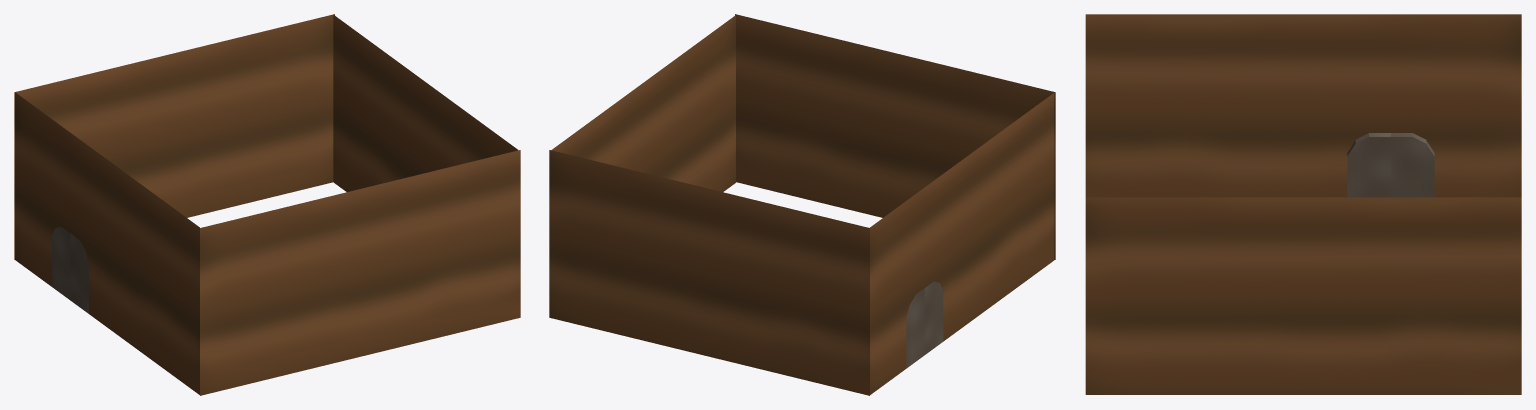
File: kabe.fbx
3 renders of one model, left to right at view 1: azimuth 30°, elevation 25°; view 2: azimuth 150°, elevation 25°; view 3: azimuth 270°, elevation 25°, orthographic. The views are drawn at different scales.
Parts seen in each view (by area): view 1: kabe; view 2: kabe; view 3: kabe.
Part boxes in pixels (x1=…): kabe: x1=14, y1=14, x2=520, y2=395; kabe: x1=549, y1=14, x2=1055, y2=395; kabe: x1=1085, y1=14, x2=1521, y2=394.
Bounding box in the file's own units: 319 × 160 × 320.
1 material, 1 textured.
